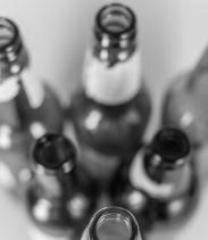glass: (0, 2, 208, 240)
